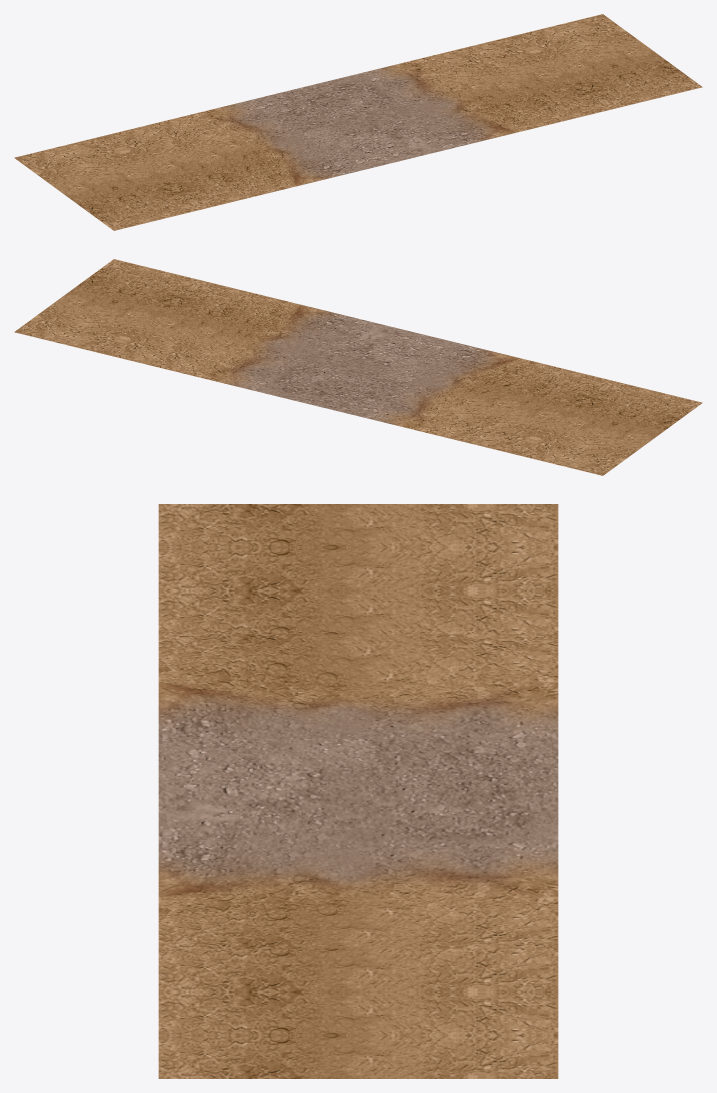
The model's file is FH_Env_Dibiao_03.FBX.
The picture shows the model from 3 angles, top to bottom: view 1: azimuth 30°, elevation 25°; view 2: azimuth 150°, elevation 25°; view 3: azimuth 270°, elevation 25°; orthographic projection. The views are drawn at different scales.
Parts seen in each view (by area): view 1: Plane42; view 2: Plane42; view 3: Plane42.
Part boxes in pixels (bbox=[...]): Plane42: bbox=[14, 14, 702, 230]; Plane42: bbox=[14, 259, 702, 475]; Plane42: bbox=[158, 504, 558, 1078].
Size of the model in its own units: 34.01 by 5.5e-05 by 10.
